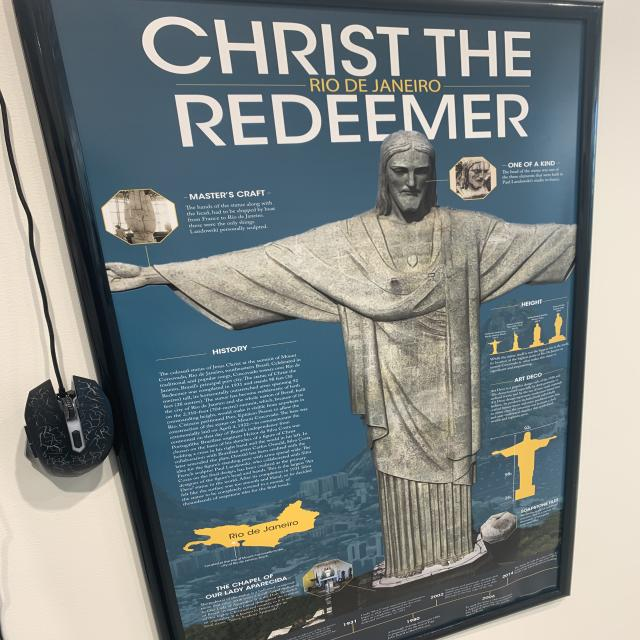Mouse: (18, 368, 122, 495)
